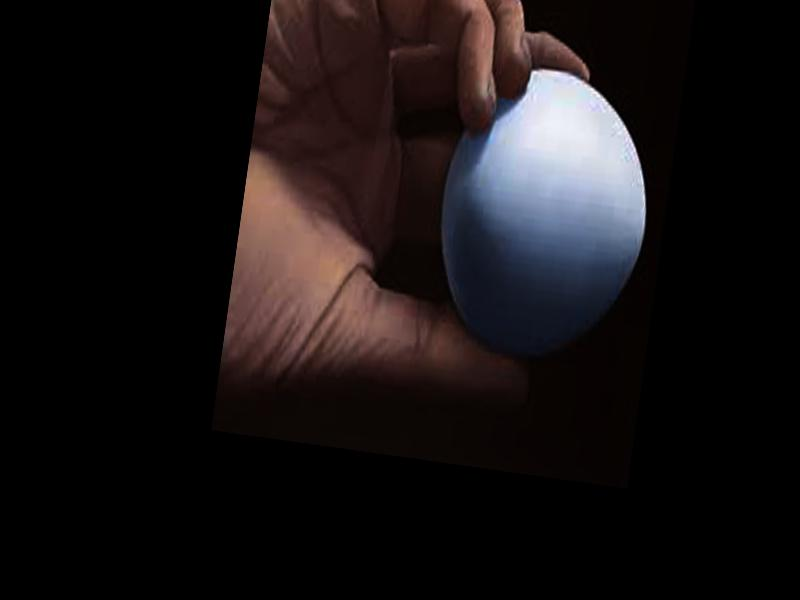Eggs: (425, 54, 667, 368)
